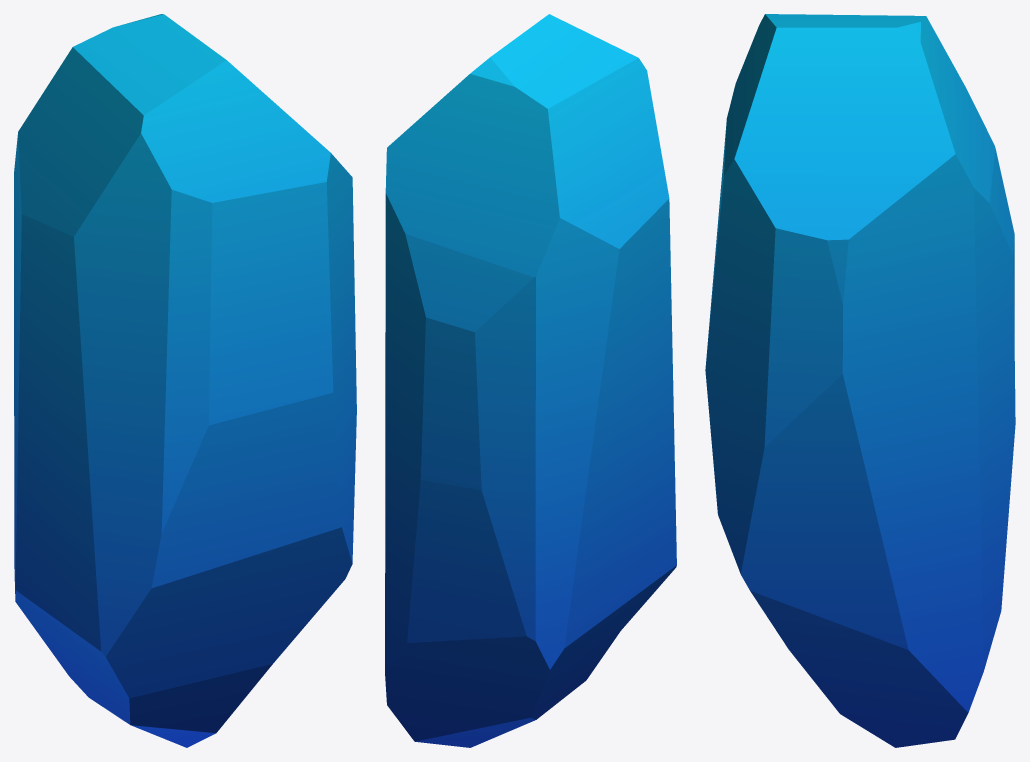
File: crystal_27.glb
The picture shows the model from 3 angles, left to right: view 1: azimuth 30°, elevation 25°; view 2: azimuth 150°, elevation 25°; view 3: azimuth 270°, elevation 25°; orthographic projection. The views are drawn at different scales.
Visible parts, largest first — view 1: crystal_27; view 2: crystal_27; view 3: crystal_27.
Part boxes in pixels (bbox=[...]): crystal_27: bbox=[14, 14, 356, 747]; crystal_27: bbox=[385, 14, 676, 747]; crystal_27: bbox=[705, 14, 1015, 747].
Size of the model in its own units: 1.76 by 4.51 by 1.78.
1 material, 1 textured.
